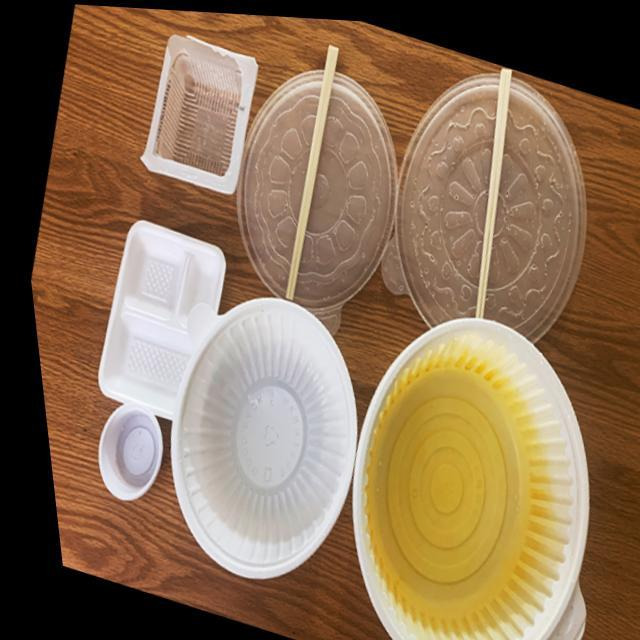container: (343, 319, 598, 640), (174, 286, 362, 610)
